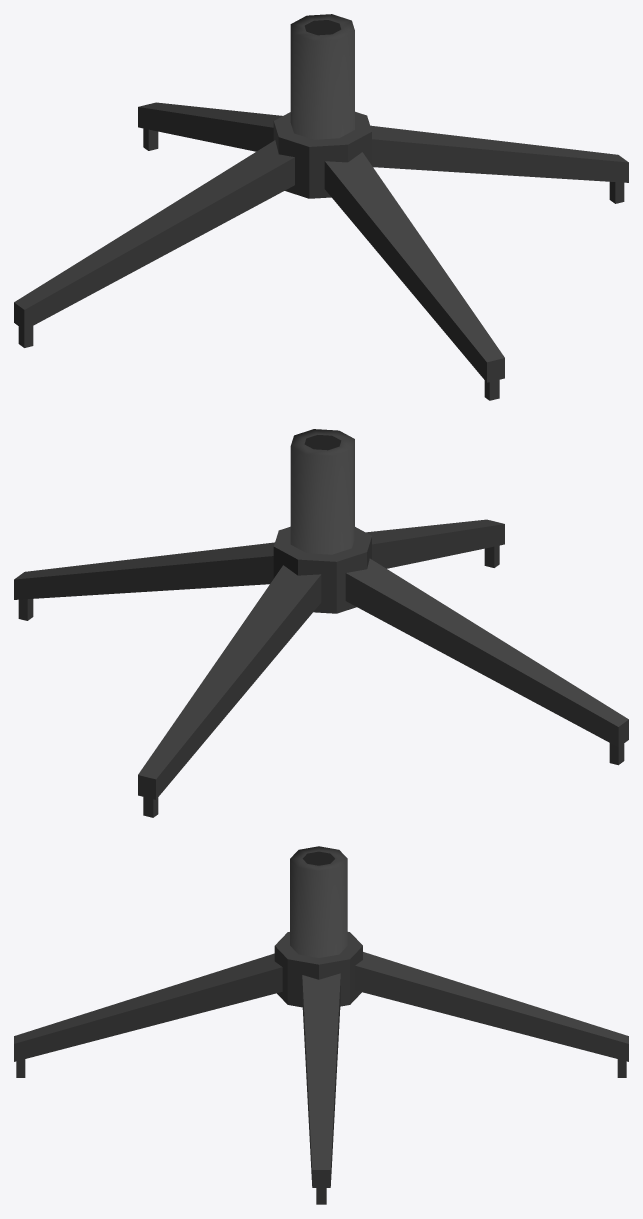
File: Chair Base.fbx
3 renders of one model, top to bottom at view 1: azimuth 30°, elevation 25°; view 2: azimuth 150°, elevation 25°; view 3: azimuth 270°, elevation 25°, orthographic. The views are drawn at different scales.
Parts seen in each view (by area): view 1: Chair Base; view 2: Chair Base; view 3: Chair Base.
Part boxes in pixels (x1=…): Chair Base: x1=14, y1=14, x2=628, y2=400; Chair Base: x1=14, y1=429, x2=628, y2=817; Chair Base: x1=14, y1=846, x2=628, y2=1204.
Size of the model in its own units: 73.47 by 28.62 by 73.47.
